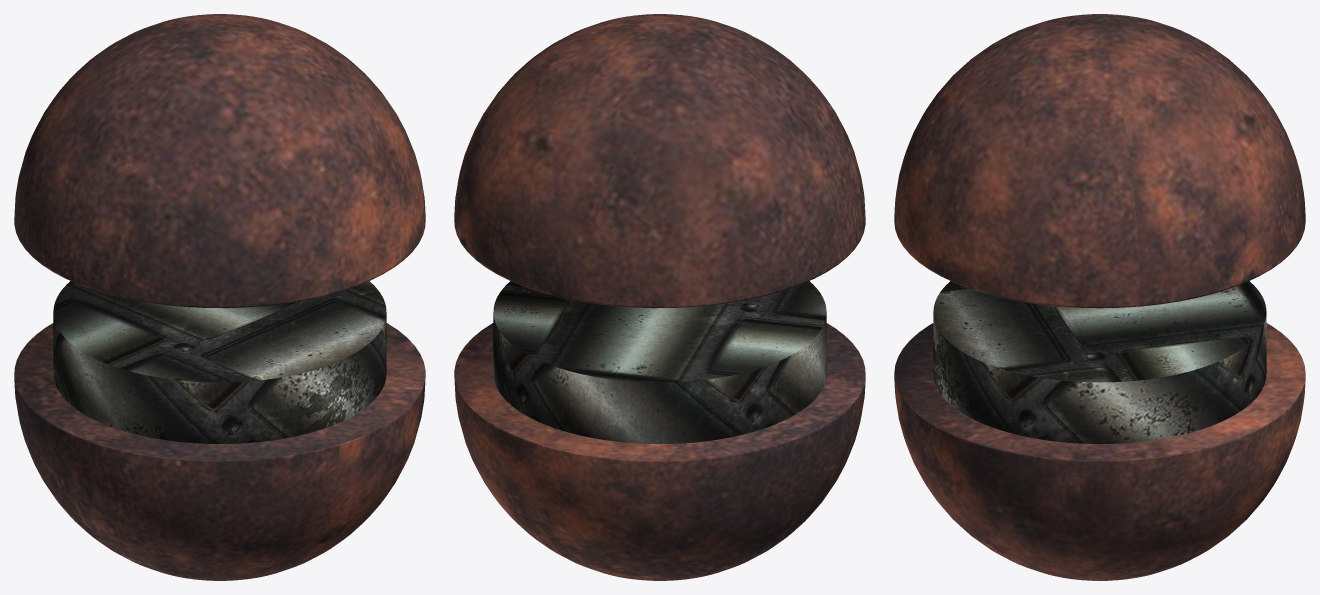
Rendered from droid_anim_000038.obj.
3 views of the same model, side by side, from view 1: azimuth 30°, elevation 25°; view 2: azimuth 150°, elevation 25°; view 3: azimuth 270°, elevation 25° (orthographic).
Visible parts, largest first — view 1: Sphere.004, Sphere.005, Cylinder.002; view 2: Sphere.004, Sphere.005, Cylinder.002; view 3: Sphere.004, Sphere.005, Cylinder.002.
Boxes of the visible parts, x1,y1,x2,y2 form: Sphere.004: (14, 14, 425, 308); Sphere.005: (14, 323, 425, 580); Cylinder.002: (53, 281, 386, 443); Sphere.004: (454, 14, 865, 308); Sphere.005: (454, 323, 865, 580); Cylinder.002: (493, 281, 826, 443); Sphere.004: (894, 14, 1305, 308); Sphere.005: (894, 323, 1305, 580); Cylinder.002: (933, 281, 1266, 443).
Bounding box in the file's own units: 2 × 2.83 × 2.
3 materials, 3 textured.
